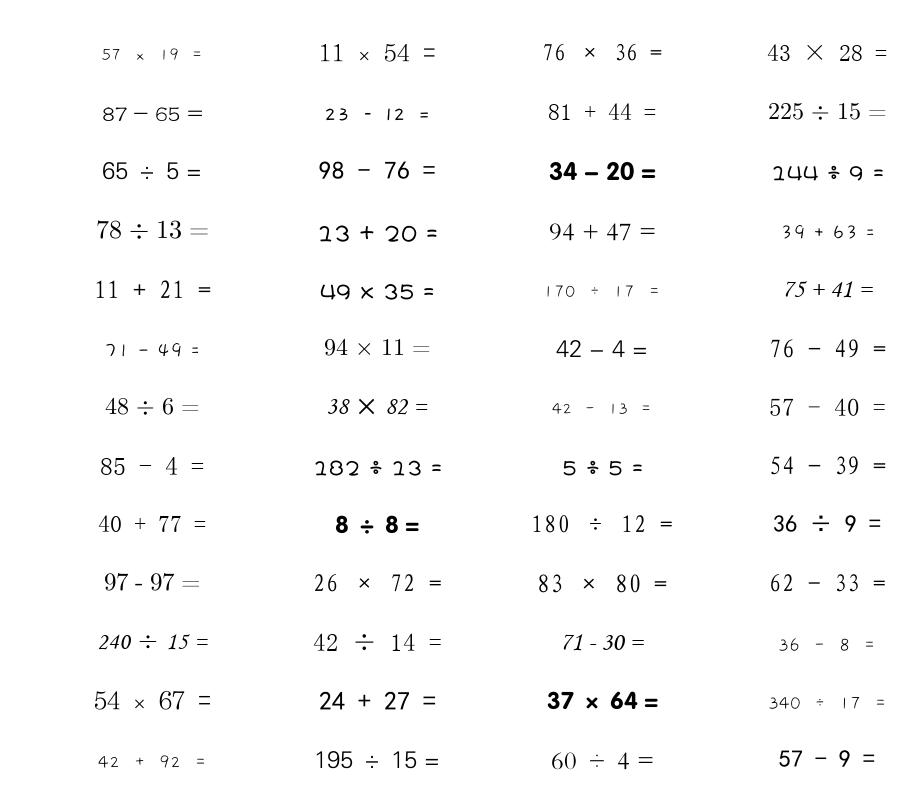MQ: (531, 515, 673, 533), (537, 574, 667, 593), (313, 574, 442, 592), (313, 633, 442, 651), (314, 751, 440, 769), (319, 43, 436, 62), (94, 280, 211, 299), (769, 339, 886, 358), (769, 456, 886, 475), (94, 691, 211, 710), (319, 691, 436, 710), (542, 43, 662, 61), (96, 220, 209, 239), (768, 102, 887, 120), (549, 161, 656, 181), (547, 691, 658, 710), (319, 161, 436, 179), (769, 398, 886, 416), (769, 574, 886, 592), (313, 460, 442, 476), (317, 225, 438, 242), (767, 44, 887, 61), (549, 223, 656, 241), (324, 338, 431, 356), (102, 161, 202, 180), (100, 457, 204, 475), (551, 752, 654, 770), (320, 284, 435, 300), (548, 103, 656, 120), (98, 515, 206, 532), (773, 515, 881, 532), (771, 165, 884, 181), (97, 634, 208, 650), (326, 398, 428, 415), (104, 573, 200, 591), (105, 397, 200, 415), (779, 750, 875, 767), (335, 515, 419, 534), (556, 340, 648, 357), (782, 281, 873, 298), (768, 697, 887, 710), (104, 342, 200, 358), (543, 285, 661, 298), (98, 755, 207, 769), (780, 224, 875, 240), (560, 634, 644, 651), (102, 107, 203, 121), (324, 108, 431, 121), (778, 638, 876, 652), (101, 48, 203, 61), (562, 460, 643, 476), (552, 403, 652, 415)
